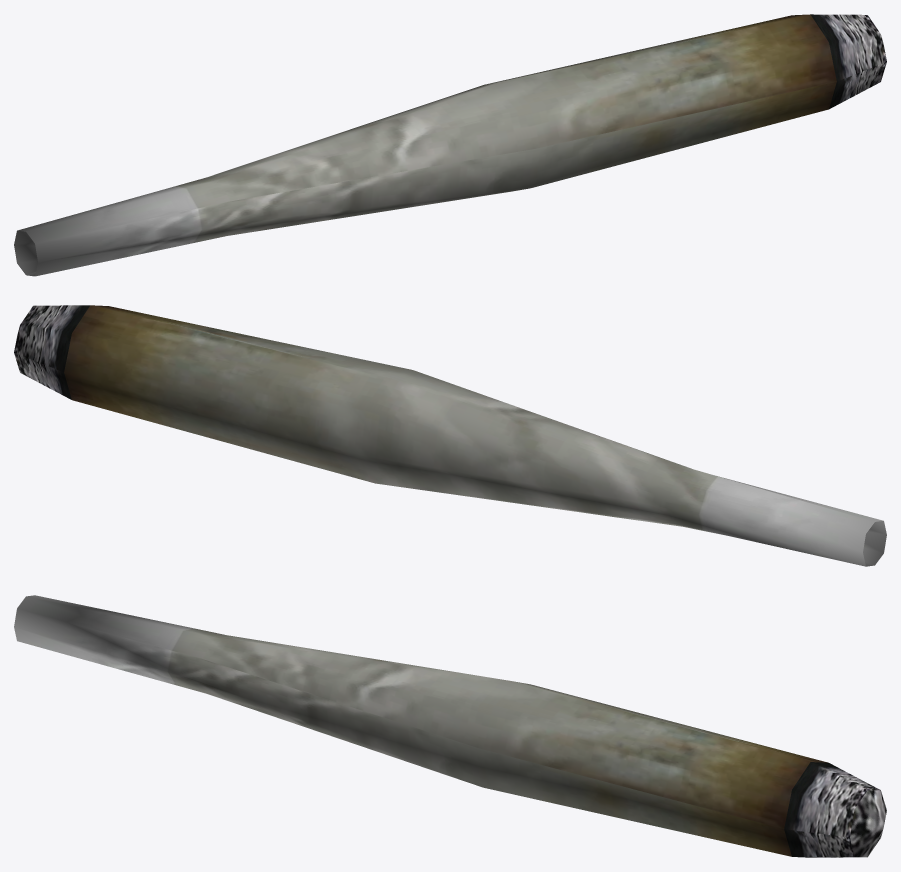
File: joint.glb
3 renders of one model, top to bottom at view 1: azimuth 30°, elevation 25°; view 2: azimuth 150°, elevation 25°; view 3: azimuth 330°, elevation 25°, orthographic.
Parts seen in each view (by area): view 1: Fat Joint; view 2: Fat Joint; view 3: Fat Joint.
Boxes of the visible parts, <box> form: Fat Joint: <box>14,14,886,276</box>; Fat Joint: <box>14,305,886,566</box>; Fat Joint: <box>14,595,886,857</box>.
Size of the model in its own units: 0.0786 by 0.00902 by 0.00902.
1 material, 1 textured.
